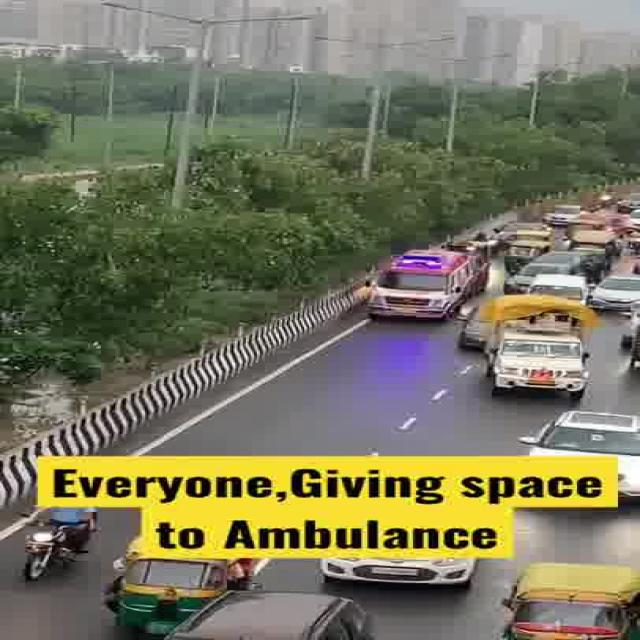ambulance: (365, 246, 483, 320)
